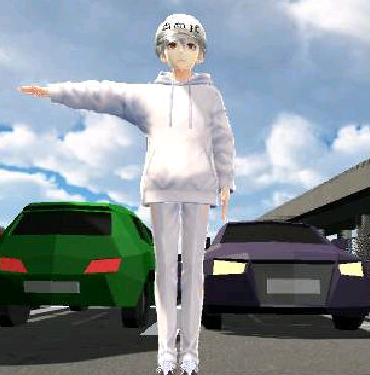singleP_left: (19, 12, 236, 375)
